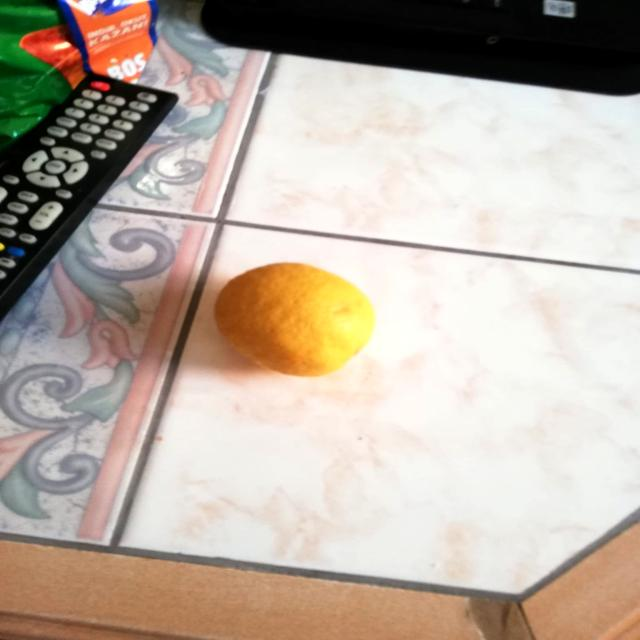lemon: (203, 255, 386, 381)
